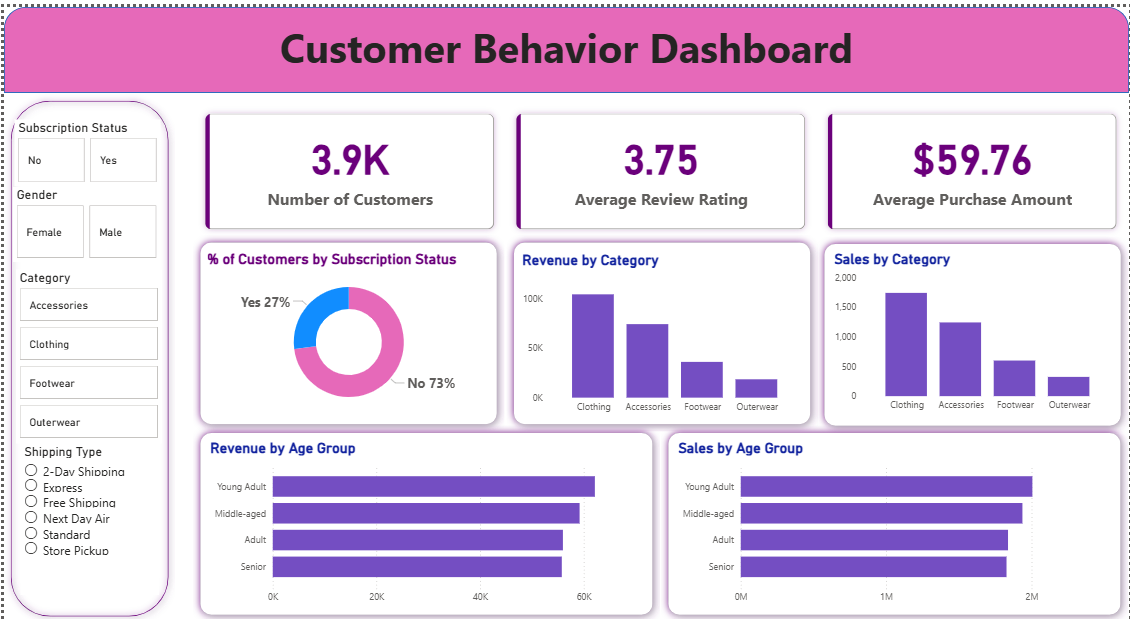

The page's visual inventory and layout, read from the dashboard file:
{"tool":"powerbi","page":{"name":"Page 1","canvas":[1500,820],"ordinal":0},"visuals":[{"type":"cardVisual","fields":{"Data":["customer_behavior customer.Number of Customers","customer_behavior customer.Average Review Rating","customer_behavior customer.Average Purchase Amount"]},"box":[235.2,127.8,1244.4,185.2],"z":0},{"type":"shape","box":[0,0,1500,114.5],"z":1000},{"type":"textbox","box":[0,12.7,1500,87.3],"z":2000},{"type":"shape","box":[235.2,303.7,400,263],"z":3000},{"type":"donutChart","title":"% of Customers by Subscription Status","fields":{"Category":["customer_behavior customer.subscription_status"],"Y":["CountNonNull(customer_behavior customer.customer_id)"]},"box":[250,322.2,368.5,225.9],"z":4000},{"type":"clusteredColumnChart","title":"Revenue by Category","fields":{"Y":["Sum(customer_behavior customer.purchase_amount)"],"Category":["customer_behavior customer.category"]},"box":[674.1,333.3,366.7,225.9],"z":7000},{"type":"clusteredColumnChart","title":"Sales by Category","fields":{"Y":["CountNonNull(customer_behavior customer.customer_id)"],"Category":["customer_behavior customer.category"]},"box":[1100,322.2,359.3,224.1],"z":8000},{"type":"shape","box":[0,114.8,220.4,705.6],"z":9000},{"type":"advancedSlicerVisual","fields":{"Values":["customer_behavior customer.subscription_status"]},"box":[13.2,150.9,160.4,98.1],"z":10000},{"type":"advancedSlicerVisual","fields":{"Values":["customer_behavior customer.gender"]},"box":[11.3,254.7,160.4,98.1],"z":11000},{"type":"advancedSlicerVisual","fields":{"Values":["customer_behavior customer.category"]},"box":[13.7,354.9,160.8,221.6],"z":12000},{"type":"listSlicer","fields":{"Values":["customer_behavior customer.shipping_type"]},"box":[19.6,596.1,147.1,200],"z":12001},{"type":"shape","box":[657.4,314.8,400,263],"z":12002},{"type":"shape","box":[1079.6,303.7,400,263],"z":12003}]}

Visuals, with their boxes in screenshot pixels (x1, y1, x2, y2), scaled from the page's 1500x820 canvas onto the 1130x619 screenshot:
cardVisual - customer_behavior customer.Number of Customers x customer_behavior customer.Average Review Rating: (x1=177, y1=96, x2=1115, y2=236)
shape: (x1=0, y1=0, x2=1129, y2=86)
textbox: (x1=0, y1=10, x2=1129, y2=75)
shape: (x1=177, y1=229, x2=479, y2=428)
"% of Customers by Subscription Status" donutChart: (x1=188, y1=243, x2=466, y2=414)
"Revenue by Category" clusteredColumnChart: (x1=508, y1=252, x2=784, y2=422)
"Sales by Category" clusteredColumnChart: (x1=829, y1=243, x2=1099, y2=412)
shape: (x1=0, y1=87, x2=166, y2=618)
advancedSlicerVisual - customer_behavior customer.subscription_status: (x1=10, y1=114, x2=131, y2=188)
advancedSlicerVisual - customer_behavior customer.gender: (x1=9, y1=192, x2=129, y2=266)
advancedSlicerVisual - customer_behavior customer.category: (x1=10, y1=268, x2=131, y2=435)
listSlicer - customer_behavior customer.shipping_type: (x1=15, y1=450, x2=126, y2=601)
shape: (x1=495, y1=238, x2=797, y2=436)
shape: (x1=813, y1=229, x2=1115, y2=428)
